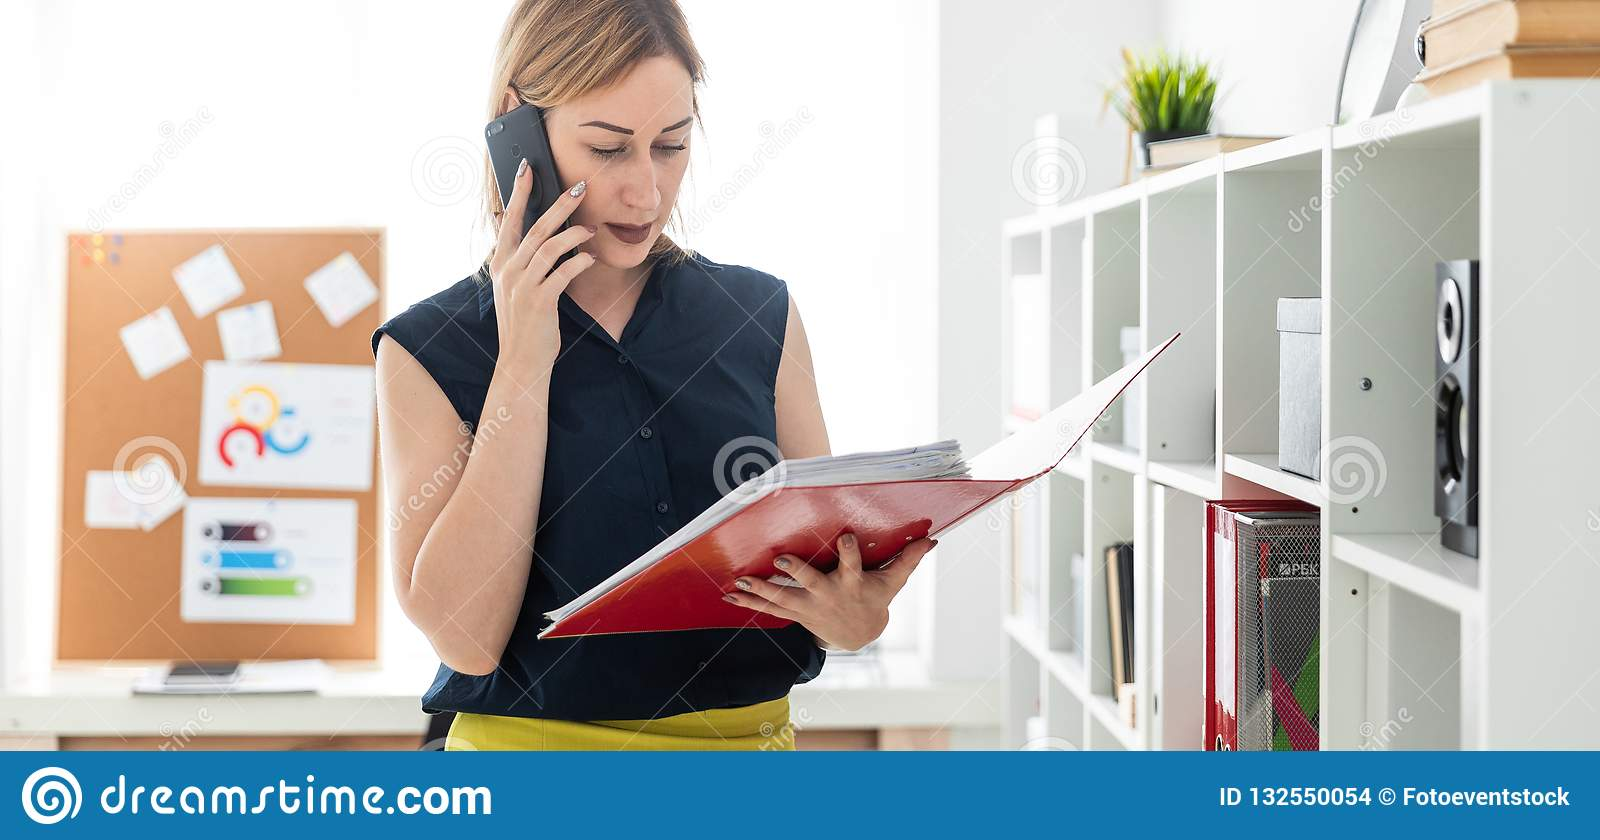phone: (481, 134, 595, 303)
talk: (470, 91, 698, 349)
